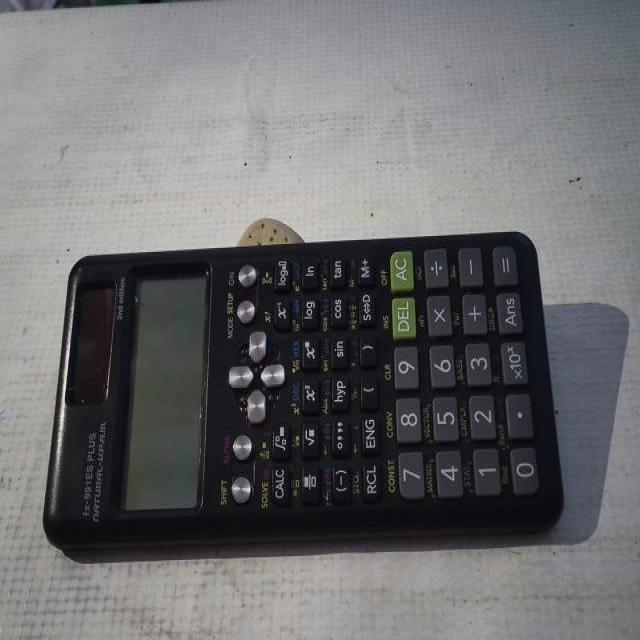Calculator: (40, 225, 566, 563)
